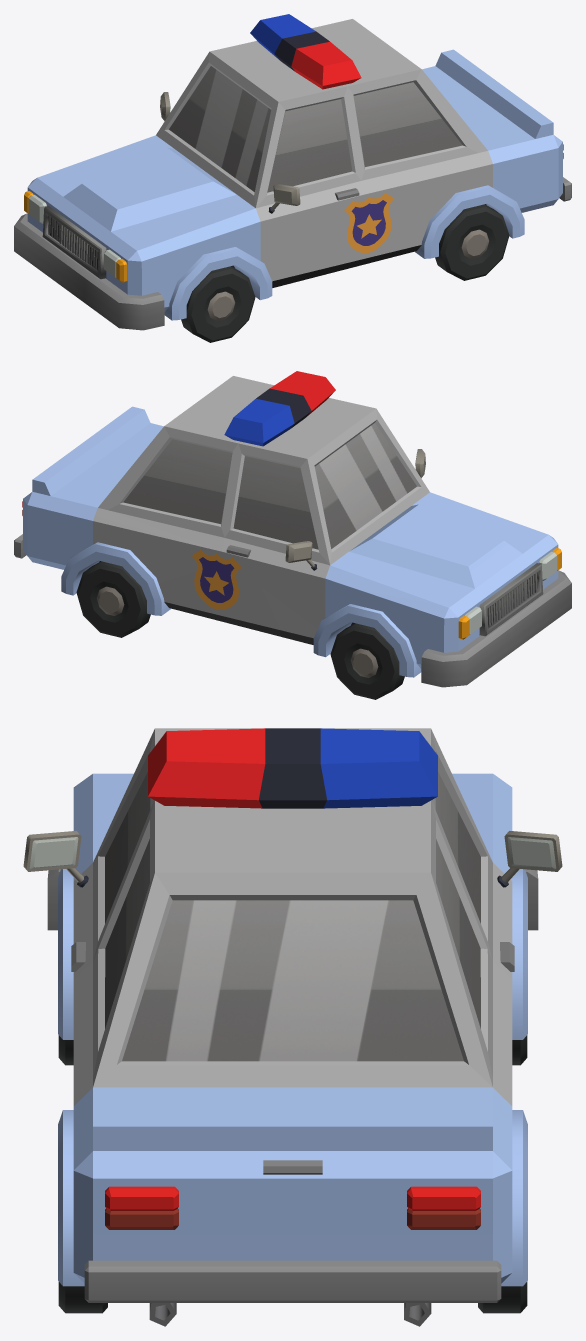
Rendered from Car_Police_1_B_1.fbx.
3 renders of one model, top to bottom at view 1: azimuth 30°, elevation 25°; view 2: azimuth 150°, elevation 25°; view 3: azimuth 270°, elevation 25°, orthographic. The views are drawn at different scales.
Parts seen in each view (by area): view 1: Car_Police_1_B_1, RL, FL; view 2: Car_Police_1_B_1, RR, FR; view 3: Car_Police_1_B_1, RL, RR.
Boxes of the visible parts, box(x1,y1,x2,y2) form: Car_Police_1_B_1: box(14, 14, 571, 330); RL: box(435, 204, 509, 280); FL: box(181, 266, 255, 342); Car_Police_1_B_1: box(14, 371, 571, 687); RR: box(76, 561, 150, 637); FR: box(330, 623, 404, 699); Car_Police_1_B_1: box(23, 728, 562, 1326); RL: box(58, 1281, 107, 1313); RR: box(478, 1281, 527, 1313).
Bounding box in the file's own units: 3.47 × 1.64 × 1.78.
